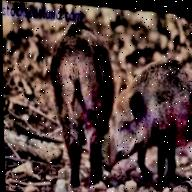boar: (30, 8, 120, 181), (101, 46, 192, 191)
